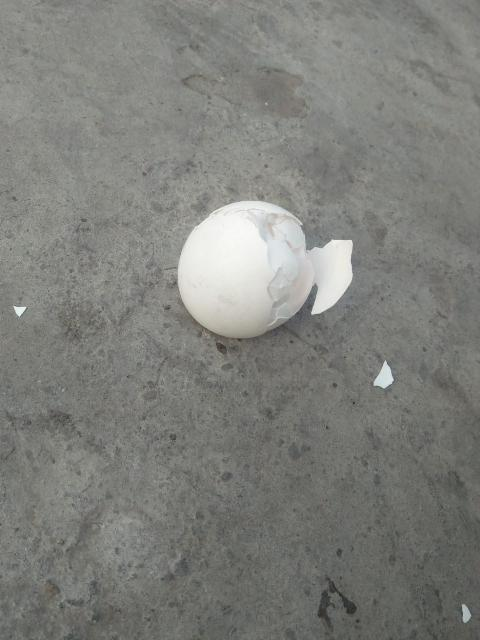Roto: (176, 199, 353, 340)
